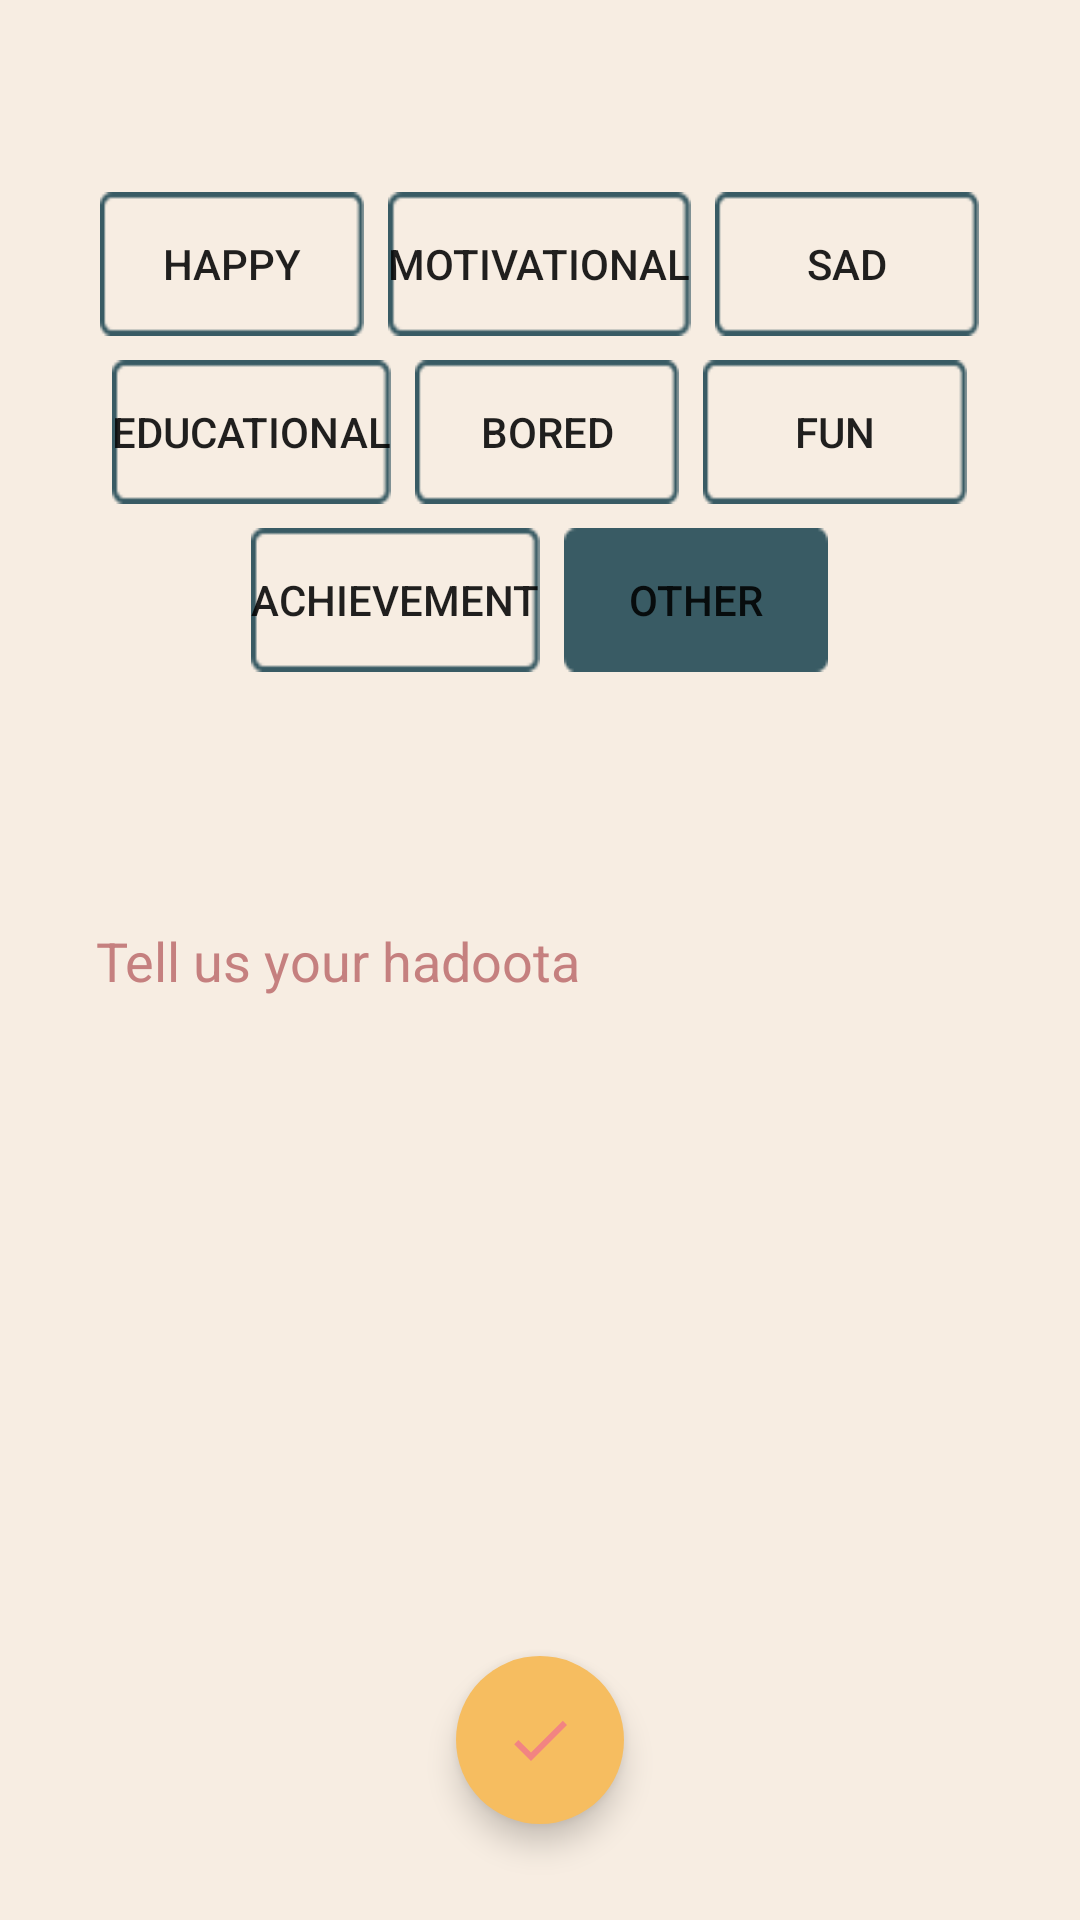

Screen size 1080*1920. Icon name, then its box in pixels as box(x1, y1, x2, y2):
done: box(456, 1656, 624, 1824)
